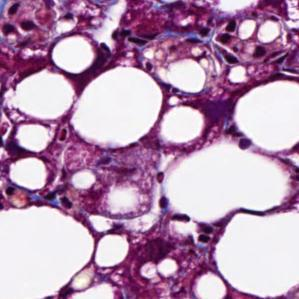inflammation: (156, 194, 217, 247), (183, 16, 241, 68), (0, 0, 41, 47), (1, 0, 37, 43), (224, 126, 261, 154), (250, 40, 269, 62)
